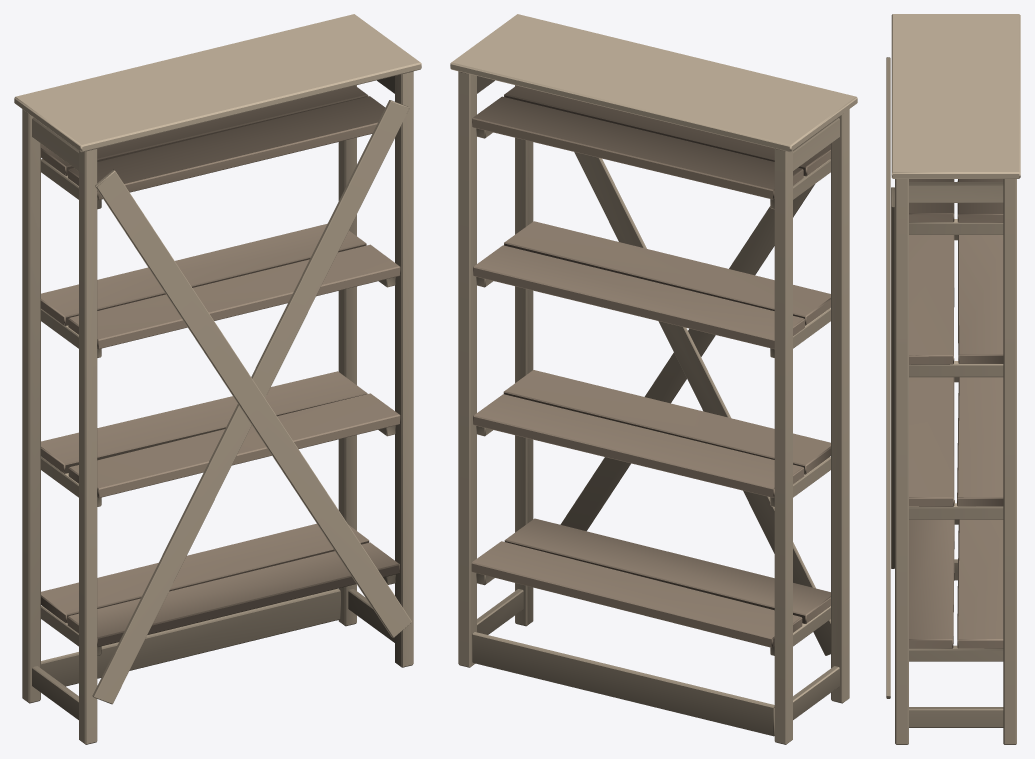
The model's file is shelf.glb.
3 renders of one model, left to right at view 1: azimuth 30°, elevation 25°; view 2: azimuth 150°, elevation 25°; view 3: azimuth 270°, elevation 25°, orthographic. The views are drawn at different scales.
Parts seen in each view (by area): view 1: static; view 2: static; view 3: static.
Boxes of the visible parts, x1,y1,x2,y2 form: static: (14,14,421,744); static: (450,14,857,744); static: (886,14,1020,744).
Bounding box in the file's own units: 1.08 × 1.82 × 0.385.
